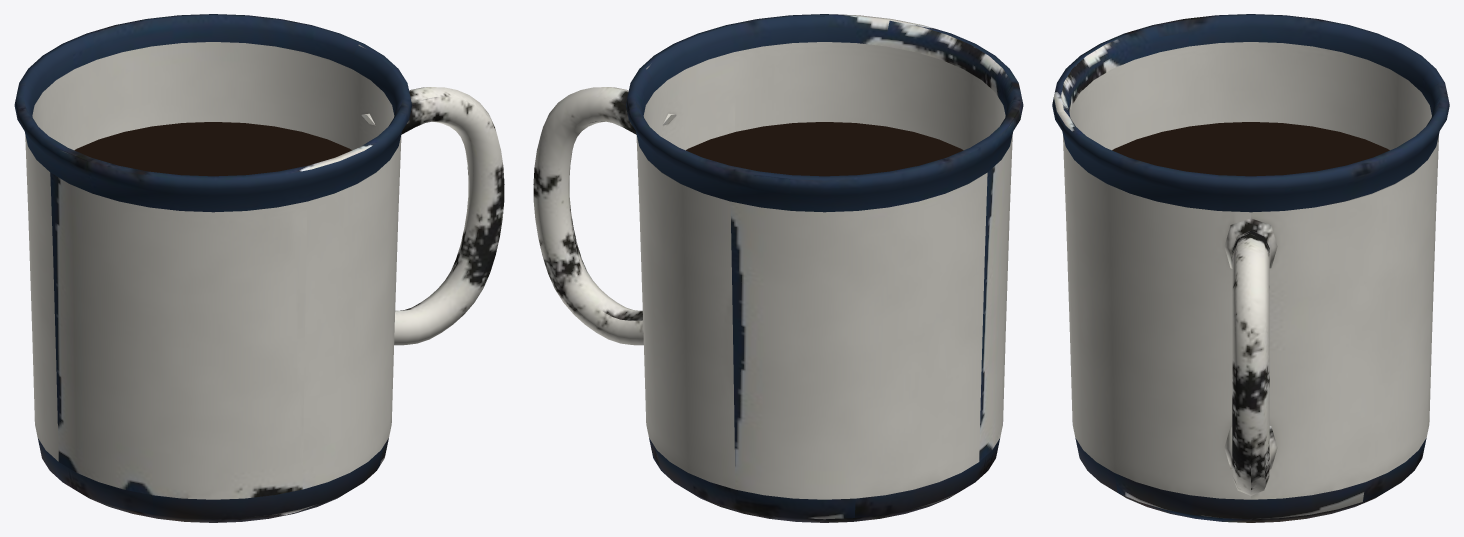
Rendered from mug.glb.
3 renders of one model, left to right at view 1: azimuth 30°, elevation 25°; view 2: azimuth 150°, elevation 25°; view 3: azimuth 270°, elevation 25°, orthographic.
Parts seen in each view (by area): view 1: Mug, Coffee; view 2: Mug, Coffee; view 3: Mug, Coffee.
Part boxes in pixels (box(x1,y1,x2,y2)): Mug: box(14, 14, 504, 522); Coffee: box(74, 122, 351, 176); Mug: box(533, 14, 1023, 522); Coffee: box(686, 122, 963, 176); Mug: box(1052, 14, 1449, 522); Coffee: box(1112, 122, 1389, 176).
Size of the model in its own units: 0.1201 by 0.0891 by 0.0896.
2 materials, 1 textured.
